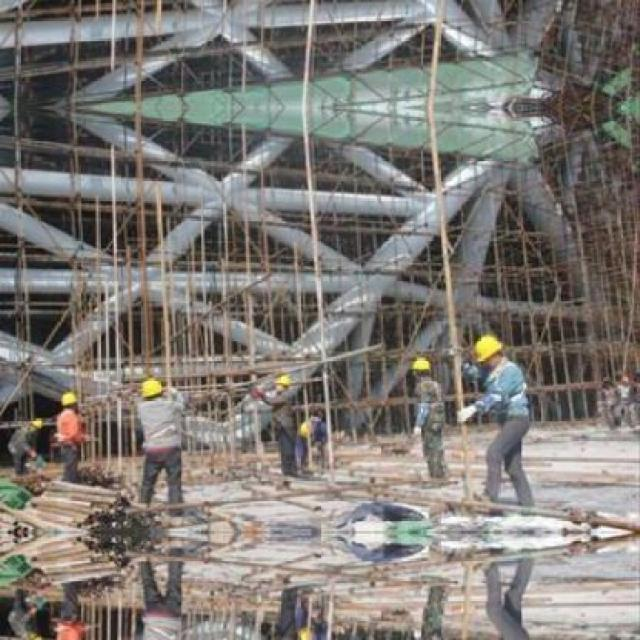helmet: (473, 333, 505, 369), (139, 377, 163, 401), (408, 353, 432, 376), (272, 373, 291, 393), (59, 392, 76, 412), (28, 414, 43, 432), (28, 631, 44, 638)
